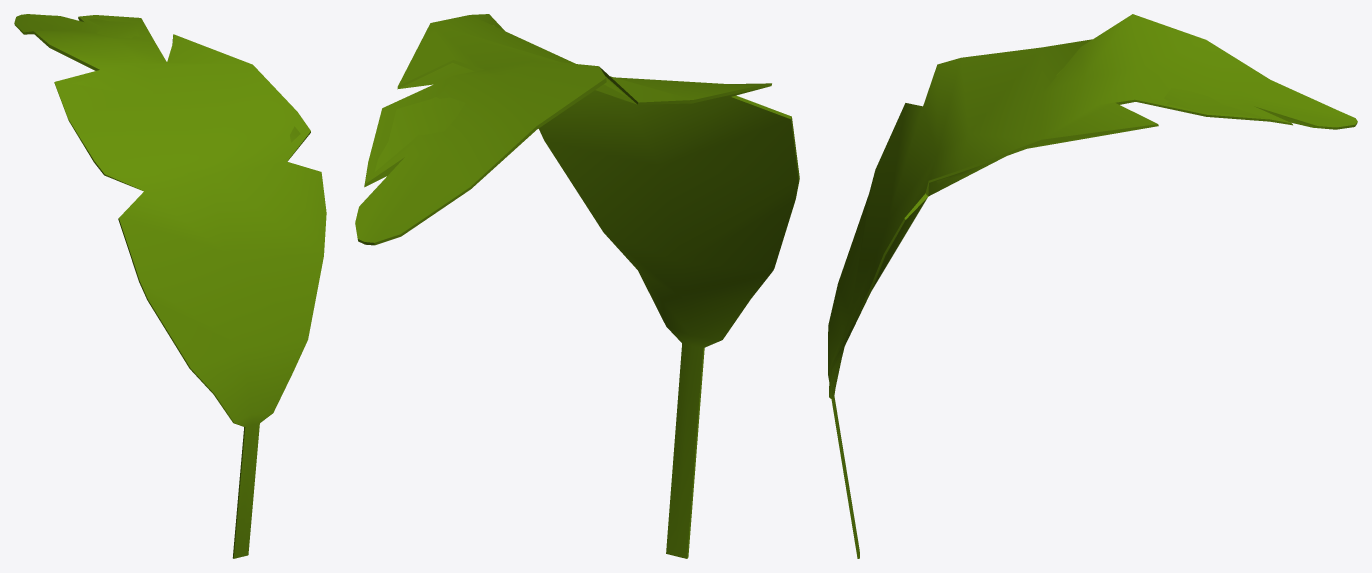
Rendered from LeafKinked.fbx.
3 views of the same model, side by side, from view 1: azimuth 30°, elevation 25°; view 2: azimuth 150°, elevation 25°; view 3: azimuth 270°, elevation 25° (orthographic). The views are drawn at different scales.
Parts seen in each view (by area): view 1: LeafKinked; view 2: LeafKinked; view 3: LeafKinked.
Boxes of the visible parts, left/top/right/bottom form: LeafKinked: left=14, top=14, right=326, bottom=558; LeafKinked: left=355, top=14, right=799, bottom=558; LeafKinked: left=828, top=14, right=1357, bottom=558.
Bounding box in the file's own units: 25.83 × 53.74 × 51.43.
